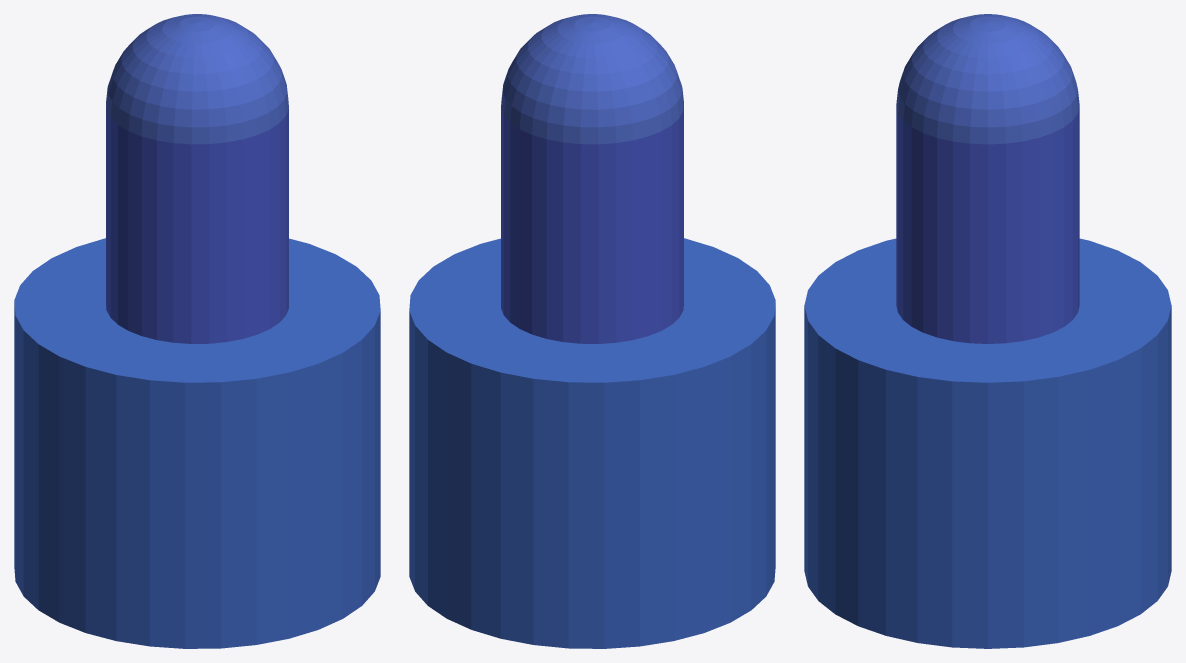
The model's file is experiment.obj.
3 renders of one model, left to right at view 1: azimuth 30°, elevation 25°; view 2: azimuth 150°, elevation 25°; view 3: azimuth 270°, elevation 25°, orthographic.
Parts seen in each view (by area): view 1: Cylinder, Cylinder.001, Sphere; view 2: Cylinder, Cylinder.001, Sphere; view 3: Cylinder, Cylinder.001, Sphere.
Boxes of the visible parts, box(x1,y1,x2,y2) form: Cylinder: box(14, 238, 380, 648); Cylinder.001: box(106, 107, 288, 343); Sphere: box(106, 14, 288, 144); Cylinder: box(409, 238, 775, 648); Cylinder.001: box(501, 107, 683, 343); Sphere: box(501, 14, 683, 144); Cylinder: box(804, 238, 1171, 648); Cylinder.001: box(896, 107, 1079, 343); Sphere: box(896, 14, 1079, 144).
Bounding box in the file's own units: 2 × 3.3 × 2.
